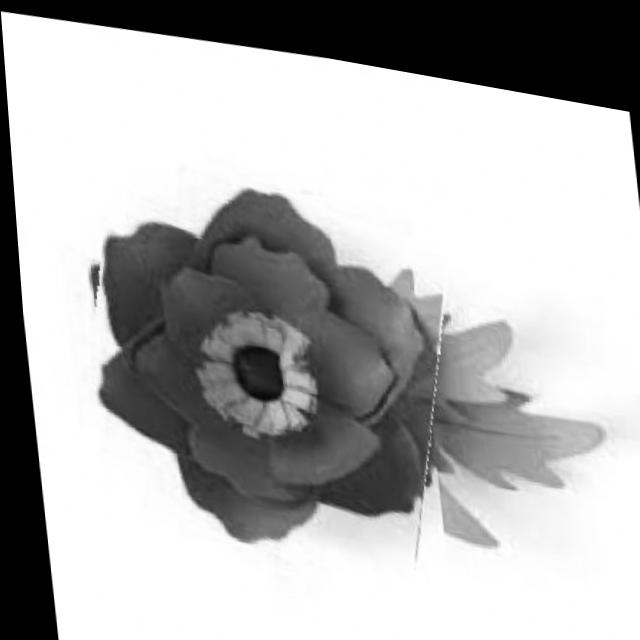Flower: (55, 128, 461, 592)
